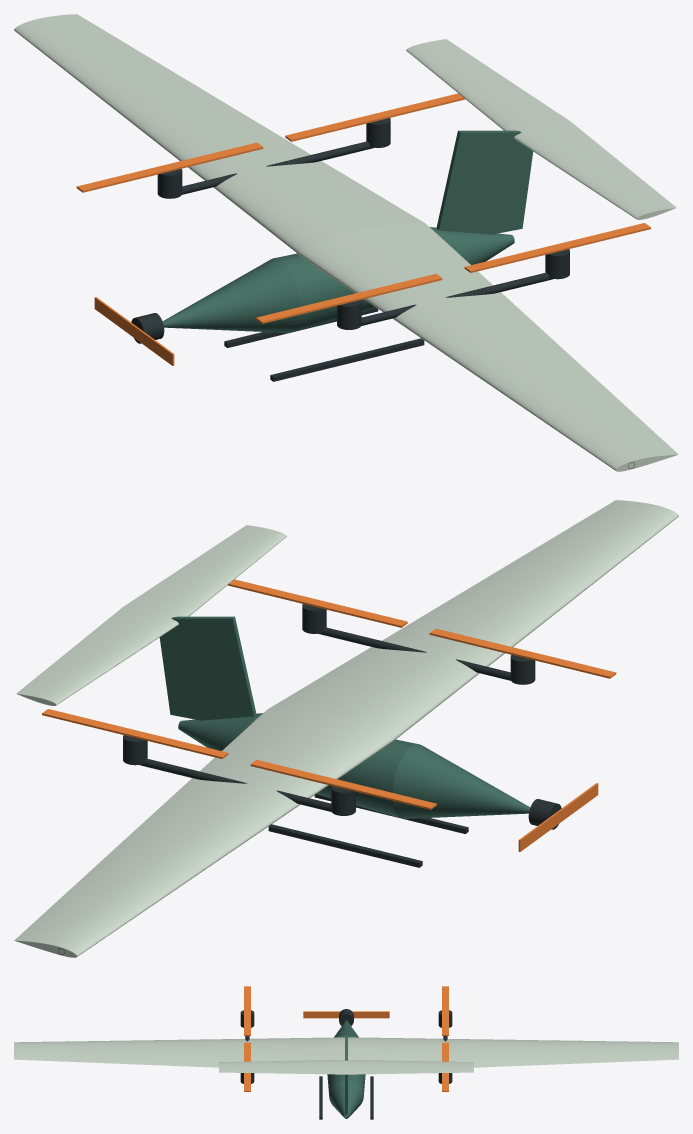
The picture shows the model from 3 angles, top to bottom: view 1: azimuth 30°, elevation 25°; view 2: azimuth 150°, elevation 25°; view 3: azimuth 270°, elevation 25°; orthographic projection. The views are drawn at different scales.
Visible parts, largest first — view 1: wing-1, wing1, fuselage, fin, tail-1, tail1, prop_1_230.0, prop_-1_230.0, prop_-1_700.0, prop_1_700.0, skid-1, boom-1 (+3 smaller); view 2: wing1, wing-1, fuselage, fin, tail1, tail-1, prop_-1_230.0, prop_1_230.0, prop_1_700.0, prop_-1_700.0, skid1, boom1 (+3 smaller); view 3: wing-1, wing1, tail-1, tail1, fuselage, cruise_prop, prop_-1_230.0, prop_1_230.0, prop_-1_700.0, prop_1_700.0.
Part boxes in pixels (left/top/right/bottom): wing-1: left=299, top=223, right=678, bottom=471; wing1: left=14, top=14, right=424, bottom=254; fuselage: left=162, top=227, right=514, bottom=332; fin: left=436, top=130, right=533, bottom=234; tail-1: left=514, top=121, right=676, bottom=219; tail1: left=406, top=39, right=569, bottom=131; prop_1_230.0: left=76, top=142, right=263, bottom=192; prop_-1_230.0: left=256, top=274, right=442, bottom=323; prop_-1_700.0: left=464, top=223, right=650, bottom=272; prop_1_700.0: left=285, top=93, right=465, bottom=141; skid-1: left=270, top=338, right=424, bottom=381; boom-1: left=361, top=272, right=553, bottom=325; wing1: left=14, top=709, right=393, bottom=957; wing-1: left=268, top=500, right=678, bottom=740; fuselage: left=178, top=713, right=530, bottom=818; fin: left=159, top=616, right=256, bottom=720; tail1: left=16, top=607, right=178, bottom=705; tail-1: left=123, top=525, right=286, bottom=617; prop_-1_230.0: left=429, top=628, right=616, bottom=678; prop_1_230.0: left=250, top=760, right=436, bottom=809; prop_1_700.0: left=42, top=709, right=228, bottom=758; prop_-1_700.0: left=227, top=579, right=407, bottom=627; skid1: left=268, top=824, right=422, bottom=867; boom1: left=139, top=758, right=331, bottom=811; wing-1: left=14, top=1037, right=344, bottom=1067; wing1: left=348, top=1037, right=678, bottom=1067; tail-1: left=219, top=1059, right=346, bottom=1074; tail1: left=346, top=1059, right=473, bottom=1074; fuselage: left=327, top=1020, right=365, bottom=1118; cruise_prop: left=303, top=1011, right=389, bottom=1018; prop_-1_230.0: left=244, top=986, right=250, bottom=1035; prop_1_230.0: left=442, top=986, right=448, bottom=1035; prop_-1_700.0: left=244, top=1042, right=250, bottom=1091; prop_1_700.0: left=442, top=1042, right=448, bottom=1091.
Bounding box in the file's own units: 984 × 390 × 2350.
